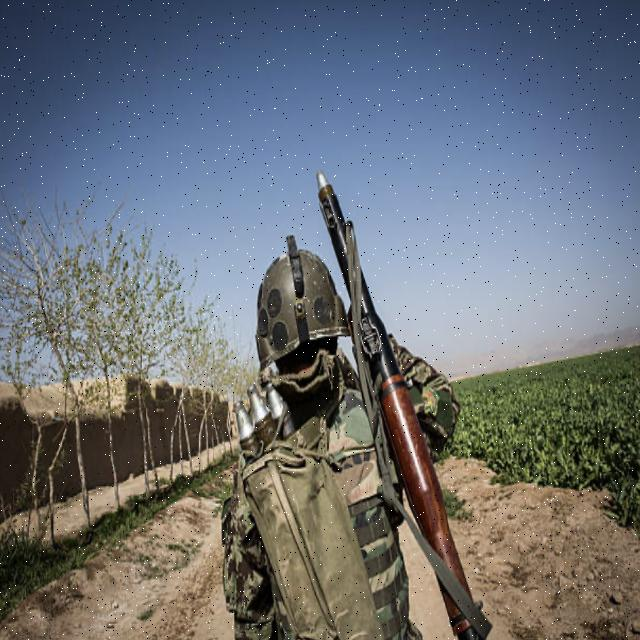bazooka: (308, 141, 504, 640)
